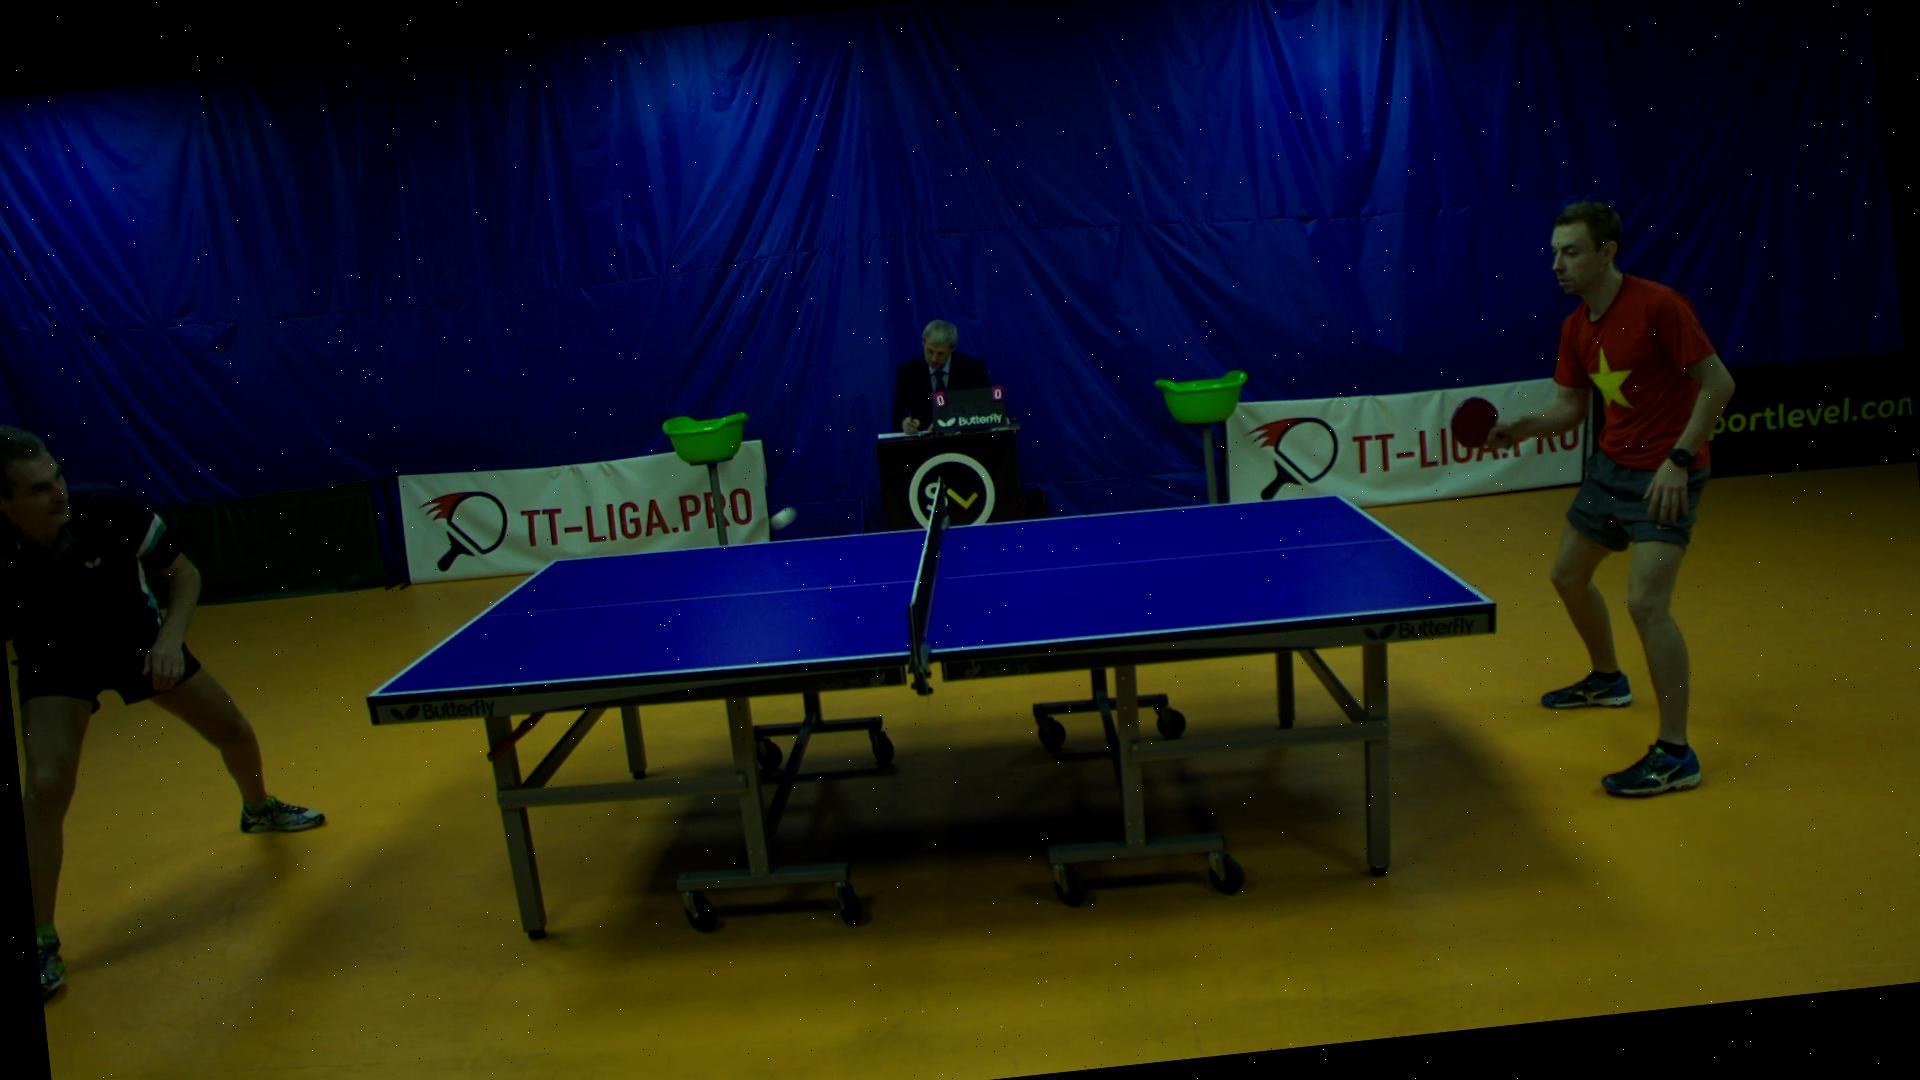ball: (764, 500, 800, 537)
